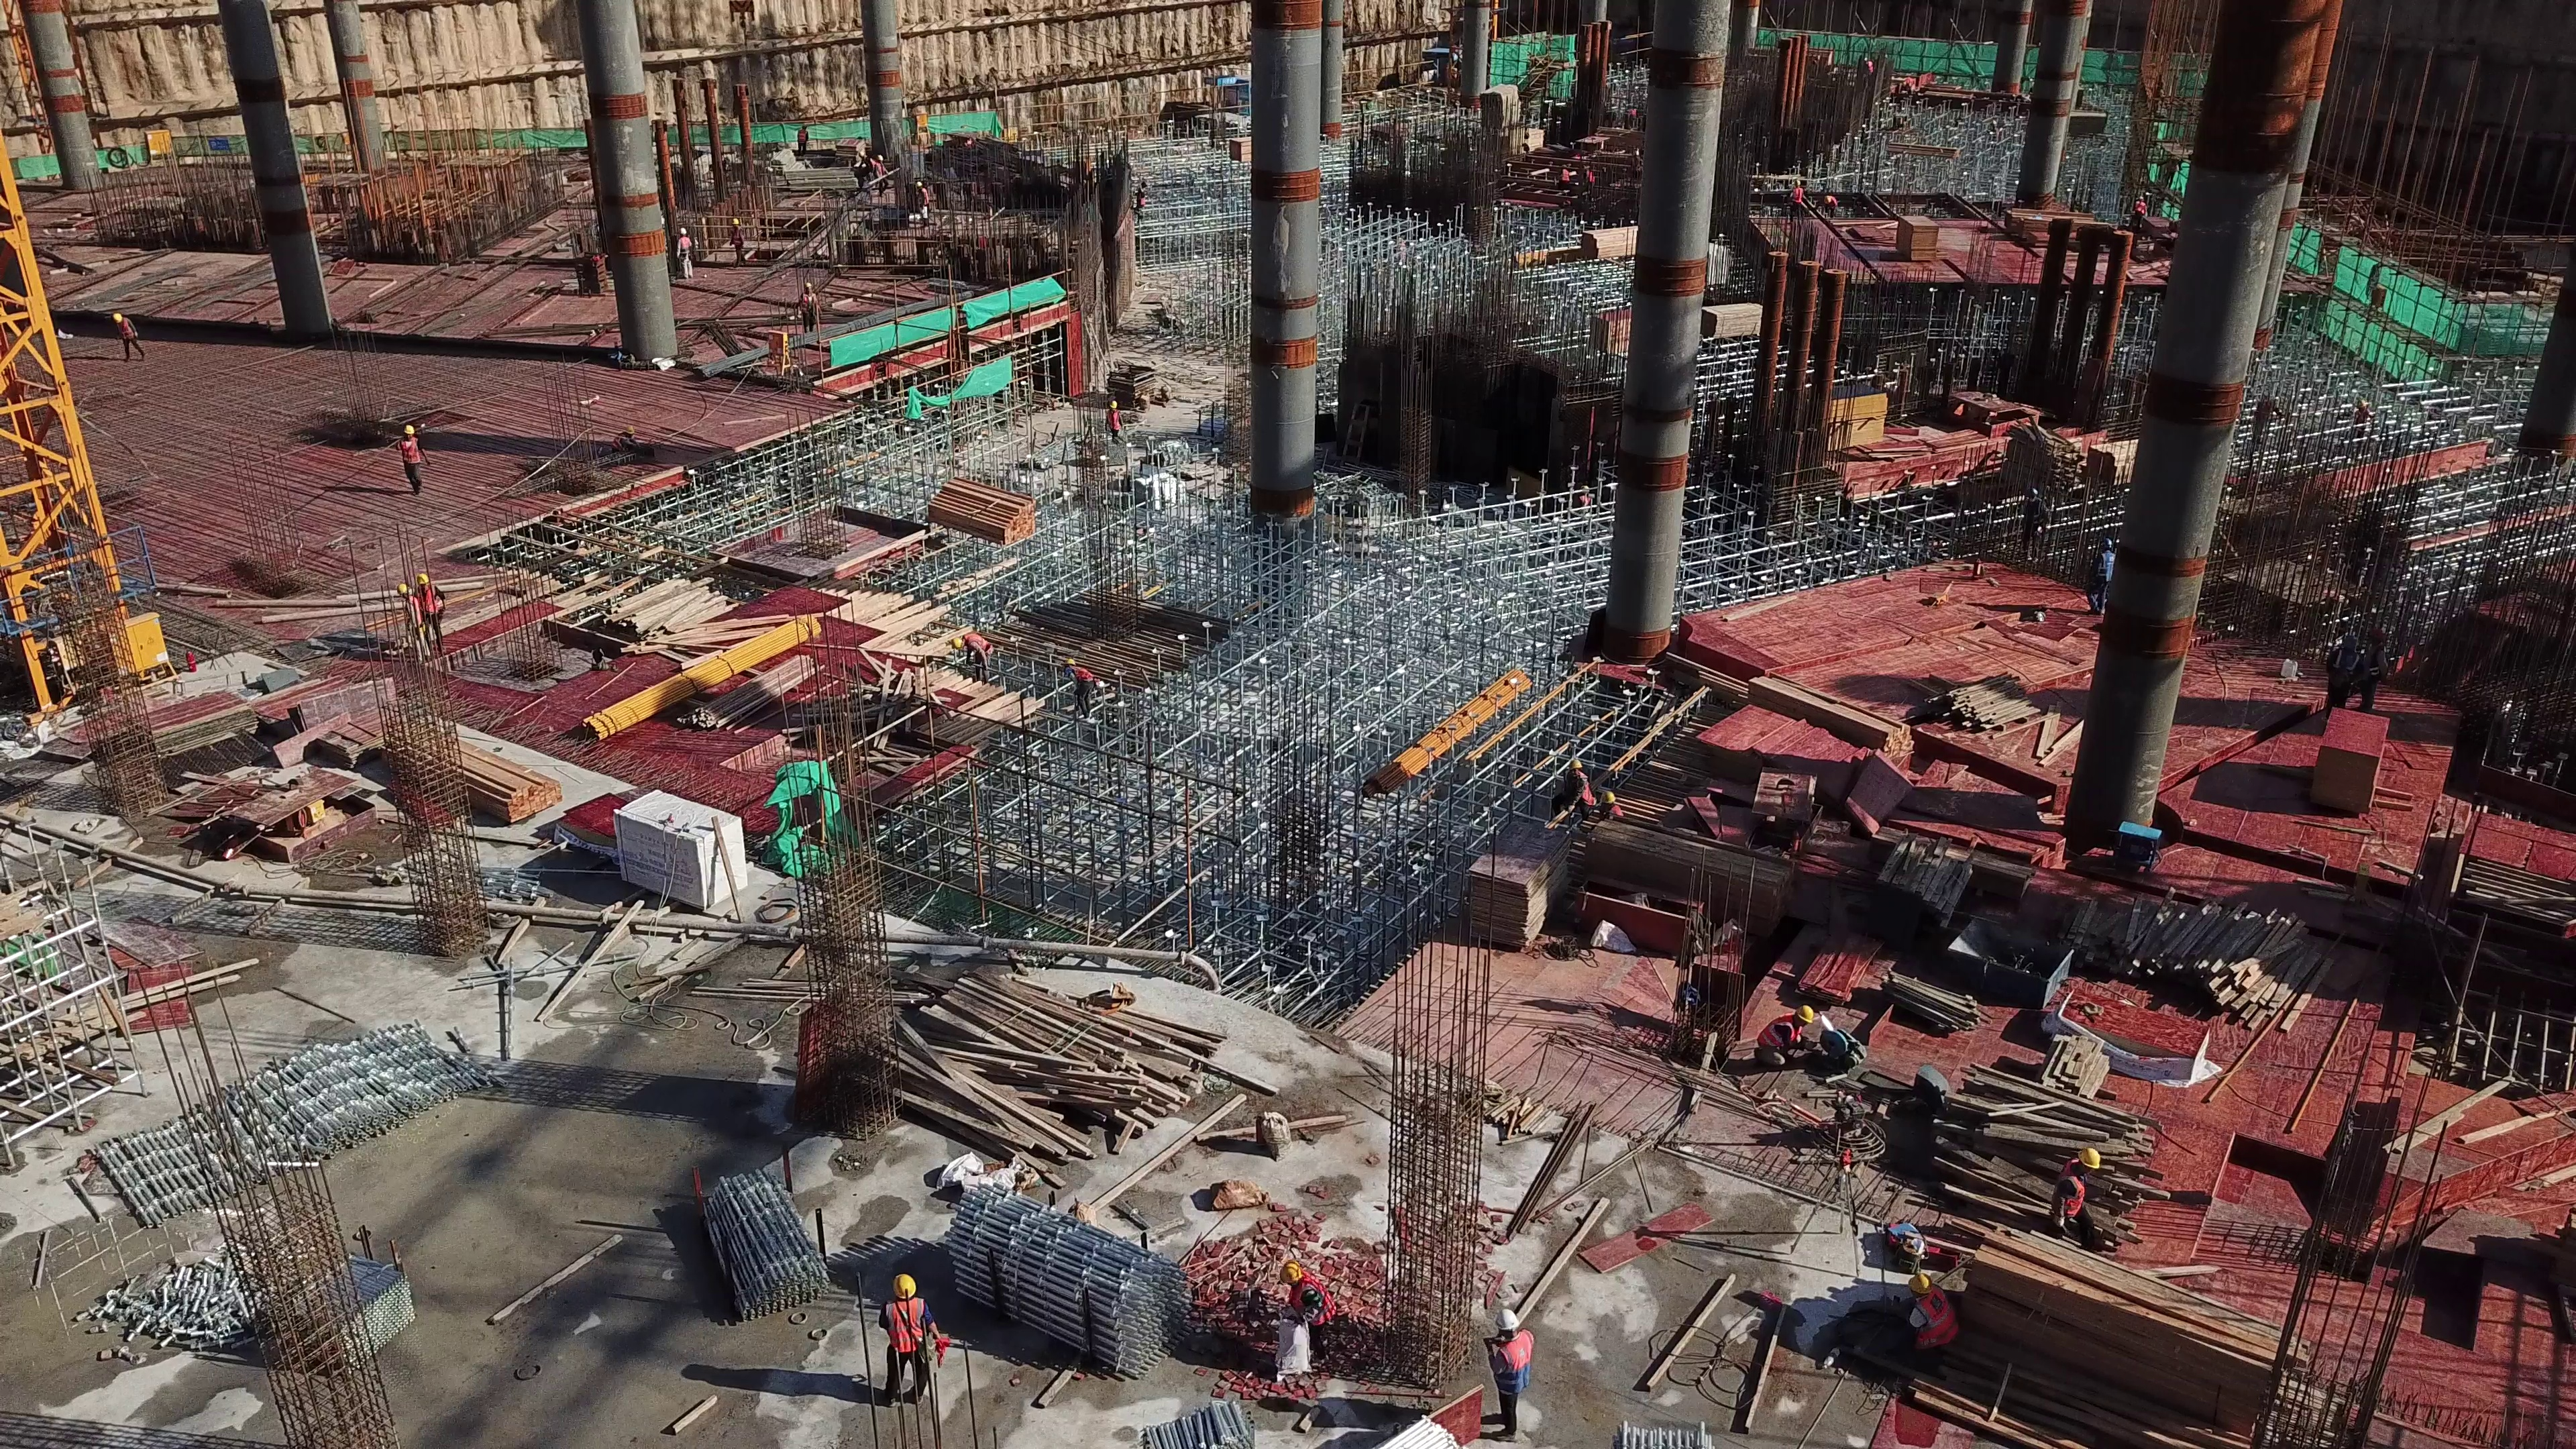board: (1465, 821, 1574, 959), (135, 685, 247, 756), (2322, 711, 2394, 808), (1898, 205, 1937, 260), (1594, 299, 1622, 363)
cutter: (1815, 1012, 1867, 1073)
ebox: (91, 606, 179, 693)
helmet: (894, 1273, 918, 1303), (1489, 1311, 1520, 1334), (2076, 1145, 2105, 1169), (1279, 1263, 1309, 1286), (1906, 1277, 1934, 1298), (1794, 1006, 1819, 1028), (1598, 786, 1616, 804), (1568, 758, 1583, 769)
person: (875, 1275, 941, 1411), (1481, 1309, 1532, 1444), (2039, 1144, 2098, 1254), (1279, 1260, 1333, 1377), (1900, 1273, 1960, 1366), (1758, 1003, 1811, 1068), (2320, 631, 2356, 726), (1554, 756, 1593, 824), (1048, 656, 1091, 718), (416, 573, 448, 654), (393, 423, 429, 494), (951, 631, 994, 686), (2356, 629, 2383, 711), (2083, 535, 2108, 619), (108, 309, 146, 362), (394, 584, 423, 651), (795, 280, 819, 333), (1099, 402, 1124, 448), (912, 181, 934, 230), (674, 228, 694, 282), (727, 215, 746, 267), (1594, 788, 1618, 818), (795, 124, 809, 153)
scaffold: (83, 1034, 497, 1223), (932, 1190, 1185, 1378), (105, 1247, 439, 1366), (690, 1173, 827, 1330), (1097, 1387, 1261, 1449)
vest: (1490, 1340, 1542, 1400), (1915, 1298, 1969, 1353), (884, 1302, 930, 1358), (1755, 1017, 1806, 1055), (1291, 1285, 1328, 1326), (2059, 1171, 2094, 1216), (399, 439, 421, 464)
wood: (1965, 1230, 2257, 1449), (878, 993, 1177, 1153), (1922, 1069, 2153, 1231), (2140, 892, 2312, 1020), (349, 720, 554, 826), (1881, 842, 1998, 950), (927, 478, 1037, 549), (1933, 676, 2039, 737), (2082, 437, 2133, 482), (1575, 217, 1630, 258)
